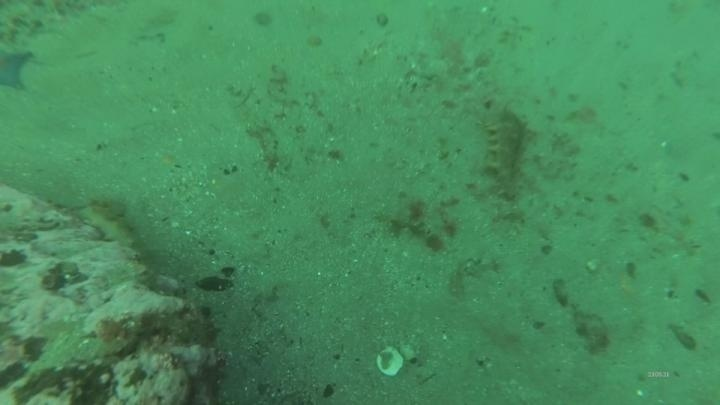holothurian: (75, 194, 147, 268), (480, 102, 529, 204)
starfish: (1, 45, 37, 96)
